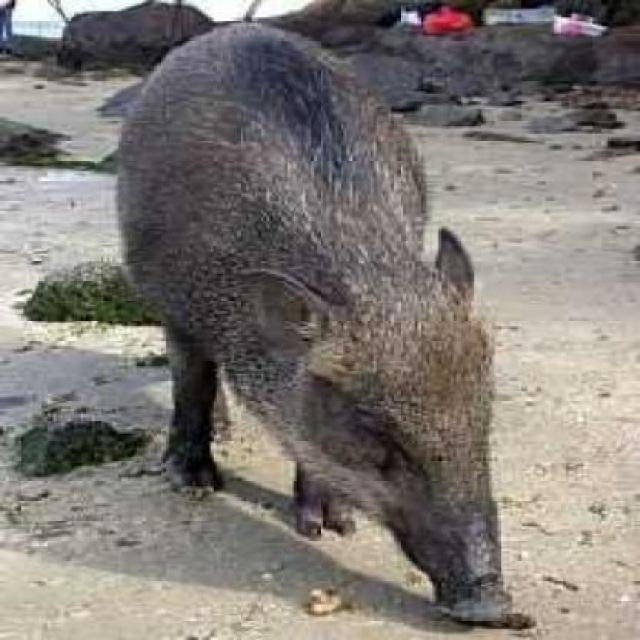pig: (86, 40, 551, 620)
